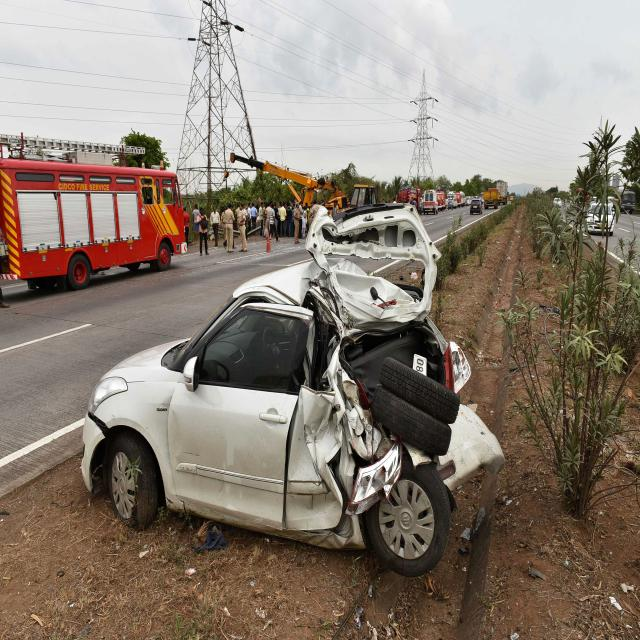accident: (81, 204, 504, 577)
car: (470, 197, 482, 215)
emergency: (0, 157, 185, 288), (422, 189, 438, 214)
truck: (230, 152, 379, 212)
